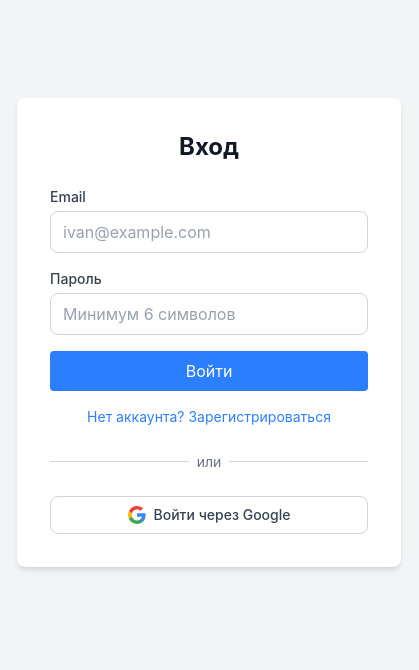
LoginPage › переключение режима › должен переключиться в режим регистрации
The width and height of the screenshot is (419, 670).
Click the button "Нет аккаунта? Зарегистрироваться": click(209, 416) top-left (50, 406), bottom-right (368, 426)
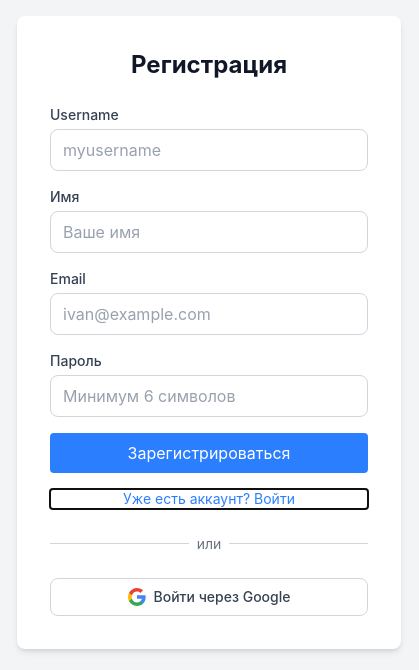
Now the field labelled "Username" is shown, box top-left (50, 128), bottom-right (368, 170)
Now the field labelled "Имя" is shown, box top-left (50, 210), bottom-right (368, 252)
Now the button "Зарегистрироваться" is shown, box top-left (50, 432), bottom-right (368, 472)
